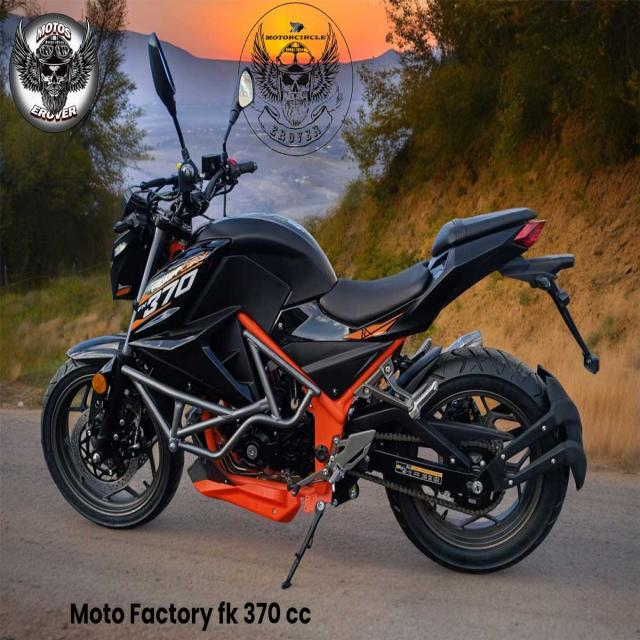MOTORCYCLE: (41, 146, 586, 594)
